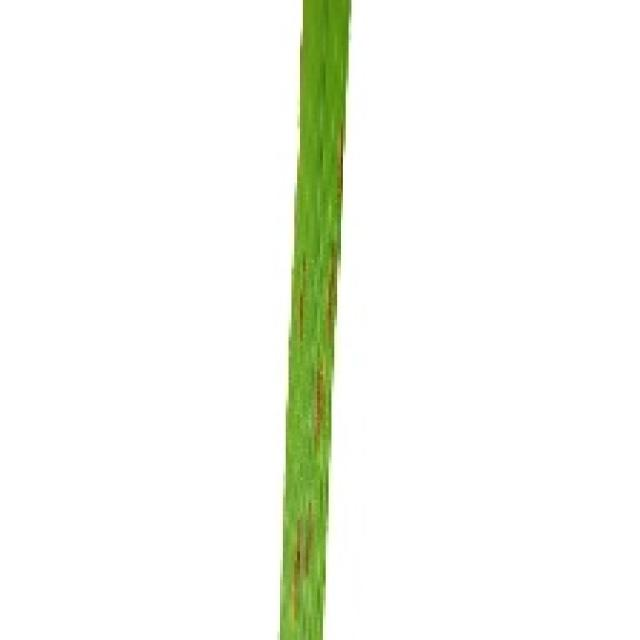Unhealthy: (324, 244, 337, 349), (313, 362, 326, 447), (293, 517, 302, 623), (303, 503, 315, 576), (298, 253, 307, 342), (337, 123, 343, 205)
